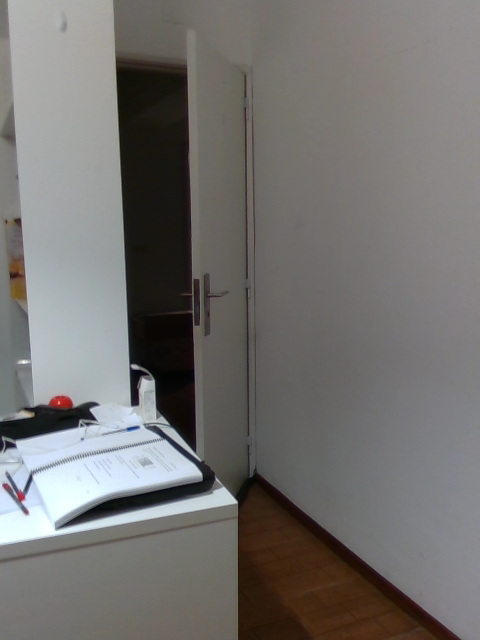semi: (116, 32, 252, 500)
